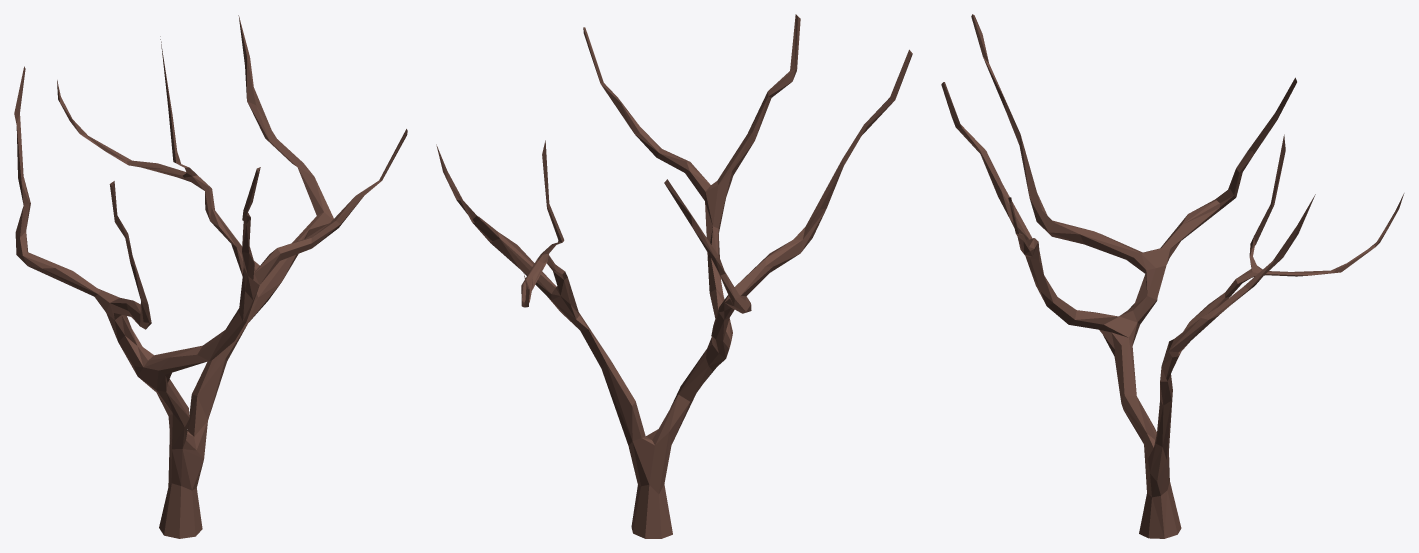
File: fantasy_plant_004.fbx
3 views of the same model, side by side, from view 1: azimuth 30°, elevation 25°; view 2: azimuth 150°, elevation 25°; view 3: azimuth 270°, elevation 25° (orthographic). The views are drawn at different scales.
Visible parts, largest first — view 1: fantasy_plant.004; view 2: fantasy_plant.004; view 3: fantasy_plant.004.
Boxes of the visible parts, x1,y1,x2,y2 form: fantasy_plant.004: (14,15,407,538); fantasy_plant.004: (436,14,912,538); fantasy_plant.004: (941,14,1404,538).
Bounding box in the file's own units: 704 × 948 × 902.
Materials: 1 (1 with a texture image).
